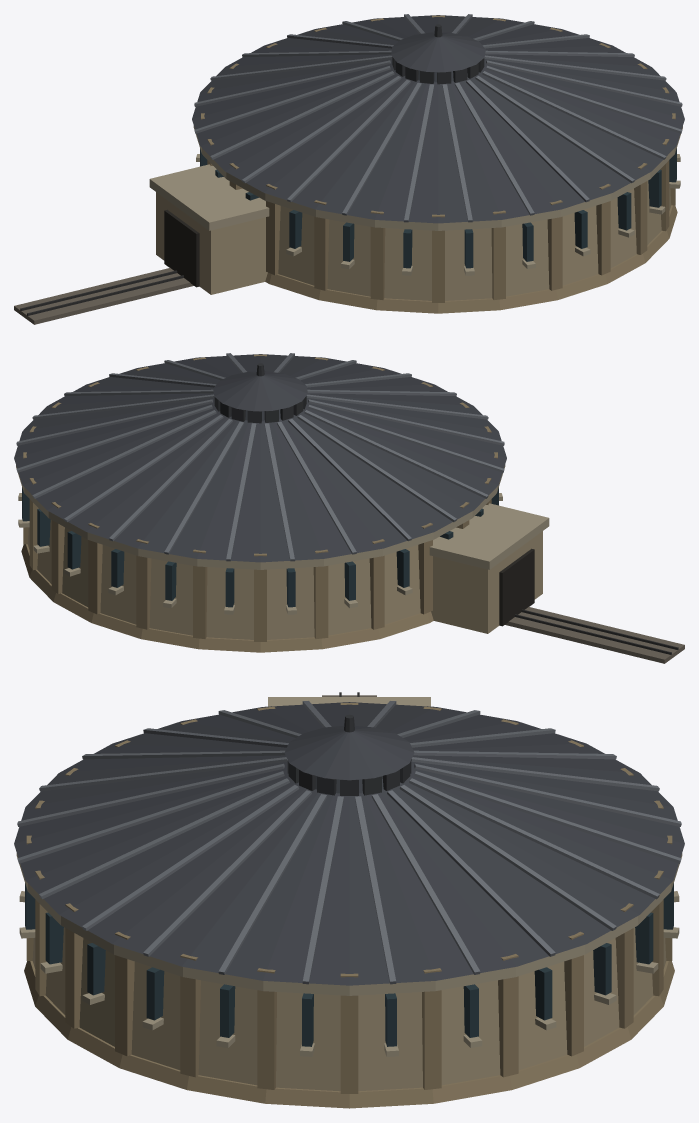
File: engine_shed_roundhouse.glb
The picture shows the model from 3 angles, top to bottom: view 1: azimuth 30°, elevation 25°; view 2: azimuth 150°, elevation 25°; view 3: azimuth 270°, elevation 25°; orthographic projection. The views are drawn at different scales.
Visible parts, largest first — view 1: engine_shed_roundhouse; view 2: engine_shed_roundhouse; view 3: engine_shed_roundhouse.
Part boxes in pixels (box(x1,y1,x2,y2)): engine_shed_roundhouse: box(14, 14, 684, 324); engine_shed_roundhouse: box(14, 353, 684, 663); engine_shed_roundhouse: box(14, 692, 684, 1108).
Size of the model in its own units: 78.8 by 22.88 by 53.6.
